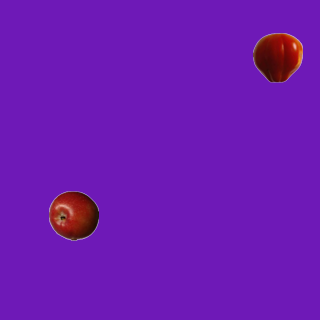Apple Braeburn: (48, 190, 98, 240)
Tomato 1: (252, 32, 302, 82)
